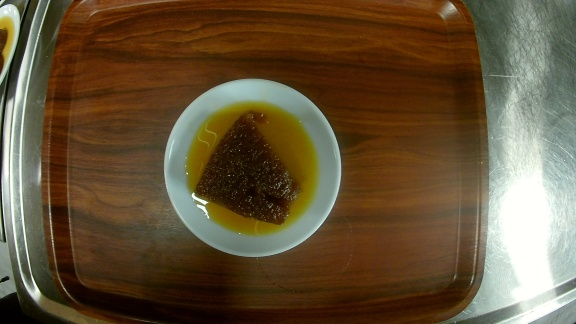ekmekkadayifi: (164, 78, 343, 258)
